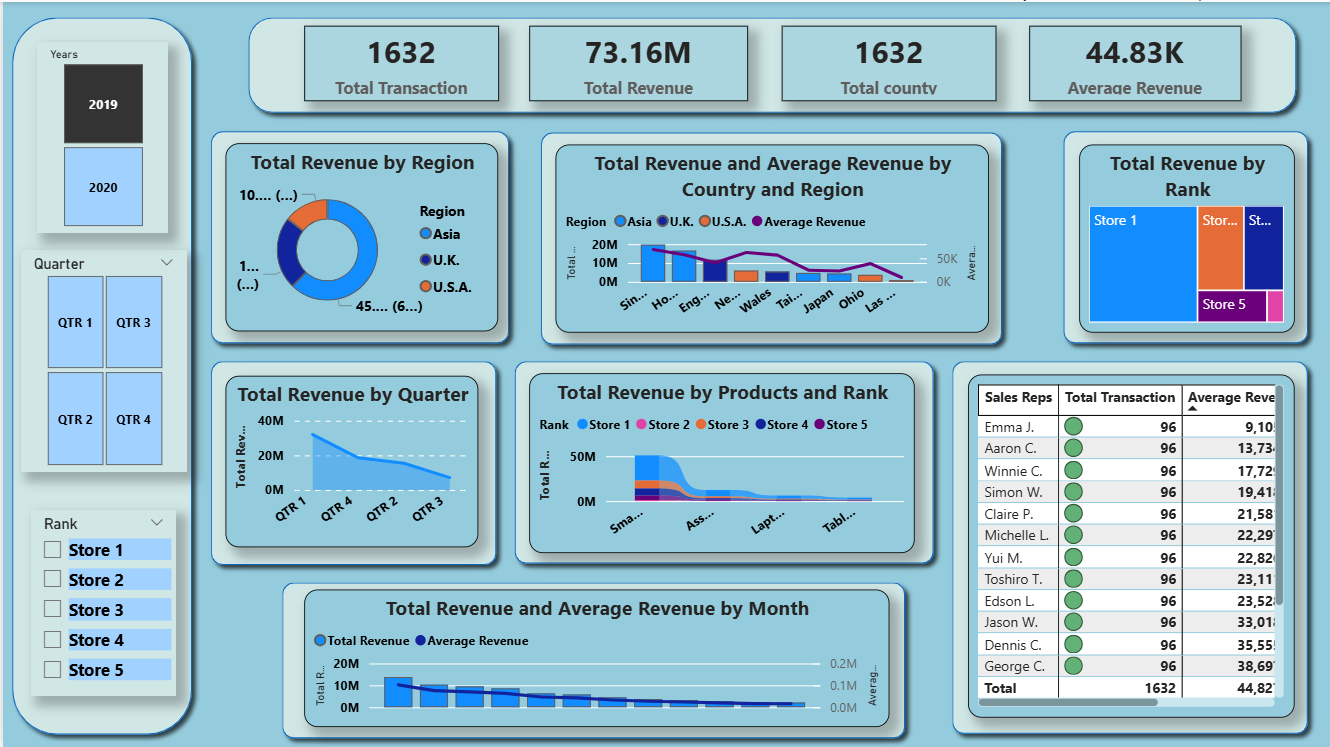

What the dashboard file says about the page in this screenshot:
{"tool":"powerbi","page":{"name":"Page 1","canvas":[1280,720],"ordinal":0},"visuals":[{"type":"shape","box":[0,5.4,191.4,710.1],"z":0},{"type":"shape","box":[191.4,338.1,293.3,214.5],"z":1000},{"type":"shape","box":[227.8,5.5,1029.2,109.8],"z":2000},{"type":"card","fields":{"Values":["Measure.Total Transaction"]},"box":[290.9,23.3,188,72.7],"z":3000},{"type":"card","fields":{"Values":["Measure.Total Revenue"]},"box":[507.7,23.3,211.3,72.7],"z":4000},{"type":"card","fields":{"Values":["Measure.Total county"]},"box":[752,23.3,207.2,72.7],"z":5000},{"type":"card","fields":{"Values":["Measure.Average Revenue"]},"box":[990.7,23.3,204.5,72.7],"z":6000},{"type":"shape","box":[191.4,115.4,305.5,222.7],"z":7000},{"type":"donutChart","fields":{"Y":["Measure.Total Revenue"],"Category":["Sheet1.Region"]},"box":[214.5,135.8,263.4,181.9],"z":8000},{"type":"shape","box":[510.5,116.8,463,222.7],"z":9000},{"type":"lineStackedColumnComboChart","fields":{"Category":["Sheet1.Country"],"Y":["Measure.Total Revenue"],"Y2":["Measure.Average Revenue"],"Series":["Sheet1.Region"]},"box":[533.6,137.1,418.2,181.9],"z":10000},{"type":"shape","box":[1014.2,115.4,253.9,222.7],"z":11000},{"type":"areaChart","fields":{"Y":["Measure.Total Revenue"],"Category":["Sheet1.Quarter"]},"box":[214.5,361.1,244.4,165.6],"z":12000},{"type":"treemap","fields":{"Values":["Measure.Total Revenue"],"Group":["Sheet1.Rank"]},"box":[1038.6,137.1,207.7,181.9],"z":13000},{"type":"shape","box":[484.7,338.1,422.2,213.2],"z":14000},{"type":"ribbonChart","fields":{"Category":["Sheet1.Products"],"Y":["Measure.Total Revenue"],"Series":["Sheet1.Rank"]},"box":[507.8,358.4,372,173.8],"z":15000},{"type":"shape","box":[906.9,338.1,361.1,377.4],"z":16000},{"type":"pivotTable","fields":{"Rows":["Sheet1.Sales Reps"],"Values":["Measure.Total Transaction","Measure.Average Revenue","Measure.Total Revenue"]},"box":[931.4,359.8,315,331.3],"z":17000},{"type":"shape","box":[260.7,551.2,619.1,168.4],"z":18000},{"type":"lineStackedColumnComboChart","fields":{"Y":["Measure.Total Revenue"],"Y2":["Measure.Average Revenue"],"Category":["Sheet1.Month"]},"box":[290.5,567.5,564.8,133.1],"z":19000},{"type":"slicer","fields":{"Values":["Sheet1.Years"]},"box":[32.6,38.6,126.7,184.6],"z":20000},{"type":"slicer","fields":{"Values":["Sheet1.Quarter"]},"box":[16.9,238.9,160.5,214.7],"z":21000},{"type":"slicer","fields":{"Values":["Sheet1.Rank"]},"box":[26.5,489.8,141.2,179.8],"z":22000}]}

Visuals, with their boxes in screenshot pixels (x1, y1, x2, y2), scaled from the page's 1280x720 canvas onto the 1330x747 screenshot:
shape: (0, 6, 199, 742)
shape: (199, 351, 504, 573)
shape: (237, 6, 1306, 120)
card - Measure.Total Transaction: (302, 24, 498, 100)
card - Measure.Total Revenue: (528, 24, 747, 100)
card - Measure.Total county: (781, 24, 997, 100)
card - Measure.Average Revenue: (1029, 24, 1242, 100)
shape: (199, 120, 516, 351)
donutChart - Measure.Total Revenue x Sheet1.Region: (223, 141, 497, 330)
shape: (530, 121, 1012, 352)
lineStackedColumnComboChart - Sheet1.Country x Measure.Total Revenue: (554, 142, 989, 331)
shape: (1054, 120, 1318, 351)
areaChart - Measure.Total Revenue x Sheet1.Quarter: (223, 375, 477, 546)
treemap - Measure.Total Revenue x Sheet1.Rank: (1079, 142, 1295, 331)
shape: (504, 351, 942, 572)
ribbonChart - Sheet1.Products x Measure.Total Revenue: (528, 372, 914, 552)
shape: (942, 351, 1318, 742)
pivotTable - Sheet1.Sales Reps x Measure.Total Transaction: (968, 373, 1295, 717)
shape: (271, 572, 914, 746)
lineStackedColumnComboChart - Measure.Total Revenue x Measure.Average Revenue: (302, 589, 889, 727)
slicer - Sheet1.Years: (34, 40, 166, 232)
slicer - Sheet1.Quarter: (18, 248, 184, 471)
slicer - Sheet1.Rank: (28, 508, 174, 695)
